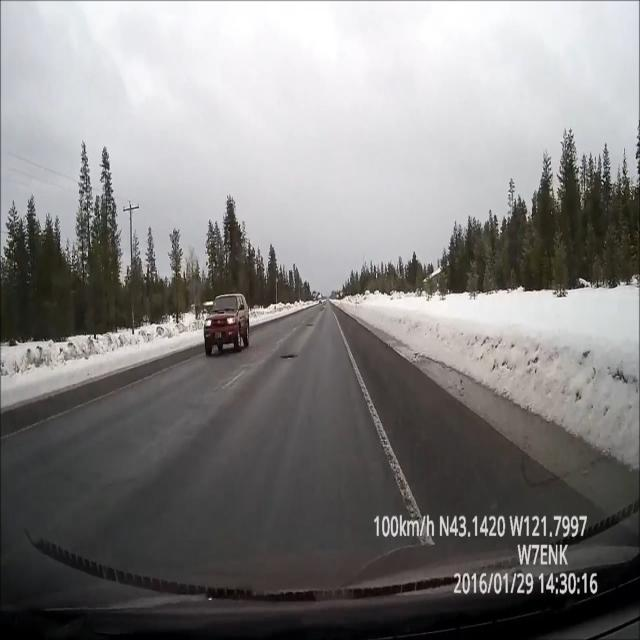Pothole: (278, 344, 300, 363)
